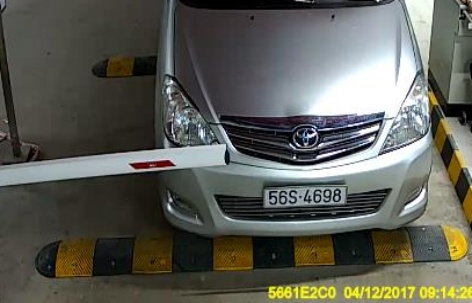plate: (256, 178, 351, 209)
